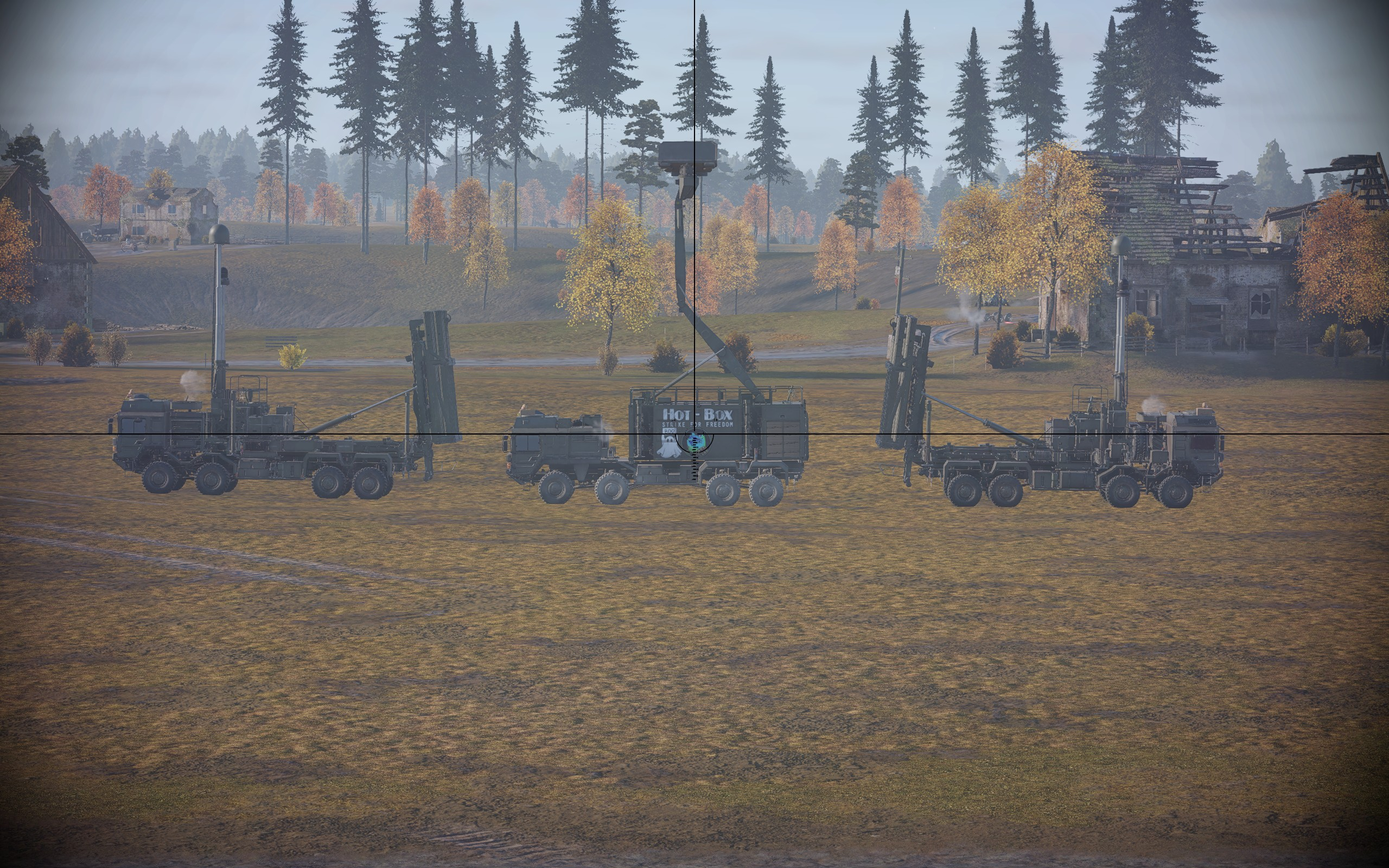spaa_TEL: (108, 225, 464, 500), (874, 234, 1225, 509)
spaa_tads: (503, 140, 809, 509)
